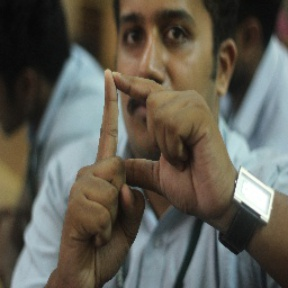D: (82, 62, 185, 191)
